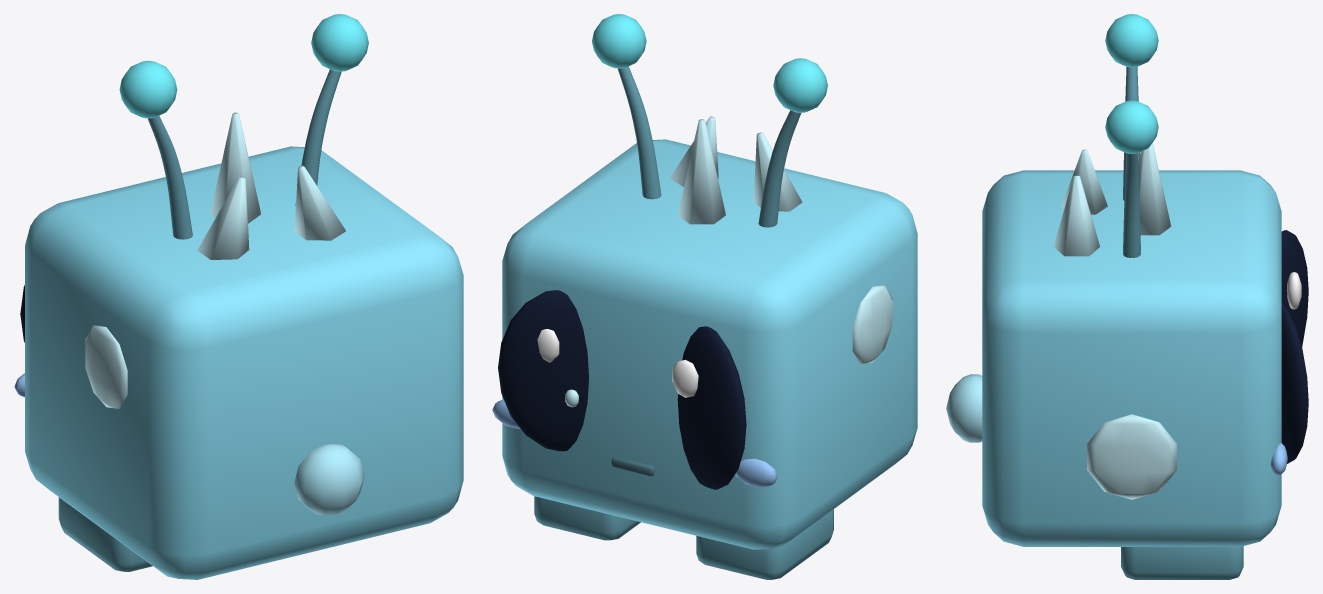
The model's file is pet_frostalien.fbx.
The picture shows the model from 3 angles, left to right: view 1: azimuth 30°, elevation 25°; view 2: azimuth 150°, elevation 25°; view 3: azimuth 270°, elevation 25°; orthographic projection. The views are drawn at different scales.
Visible parts, largest first — view 1: pet_frostalien; view 2: pet_frostalien; view 3: pet_frostalien.
Part boxes in pixels (bbox=[...]): pet_frostalien: bbox=[14, 14, 463, 579]; pet_frostalien: bbox=[492, 14, 917, 579]; pet_frostalien: bbox=[946, 14, 1308, 579].
Size of the model in its own units: 2.19 by 3.27 by 2.3.
Materials: 1 (1 with a texture image).
